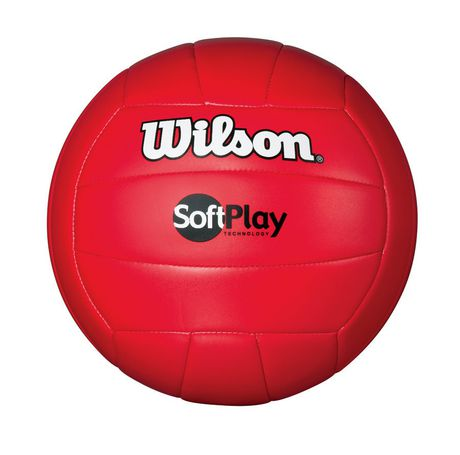red ball: (46, 38, 420, 408)
